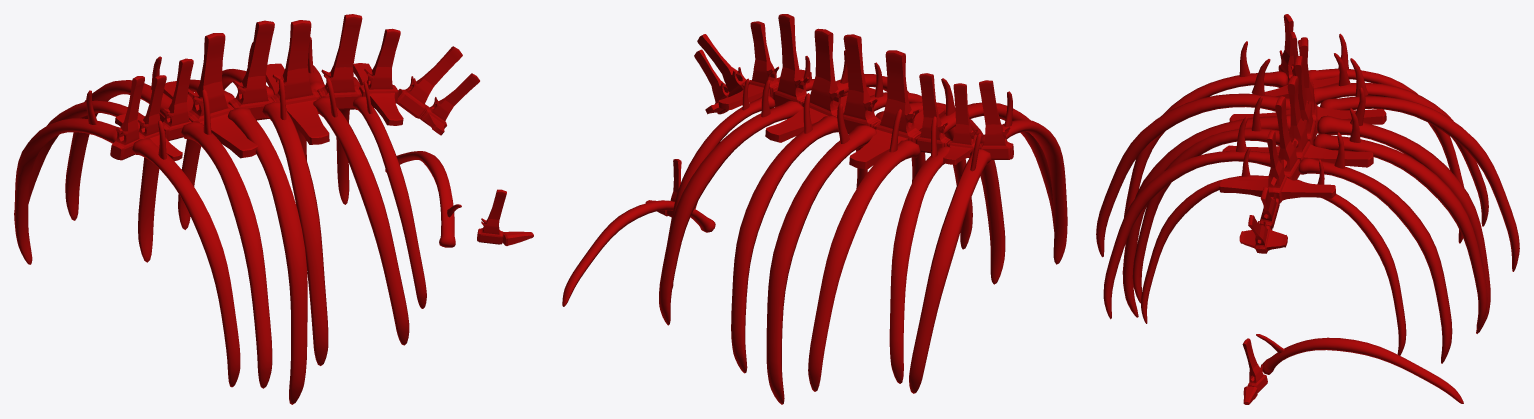
File: Asset_WhaleBone05.fbx
The picture shows the model from 3 angles, left to right: view 1: azimuth 30°, elevation 25°; view 2: azimuth 150°, elevation 25°; view 3: azimuth 270°, elevation 25°; orthographic projection. The views are drawn at different scales.
Parts seen in each view (by area): view 1: polySurface60; view 2: polySurface60; view 3: polySurface60.
Part boxes in pixels (x1,y1,x2,y2): polySurface60: [14, 14, 533, 404]; polySurface60: [562, 14, 1067, 404]; polySurface60: [1096, 14, 1519, 404].
Size of the model in its own units: 4.59 by 3.26 by 4.38.
